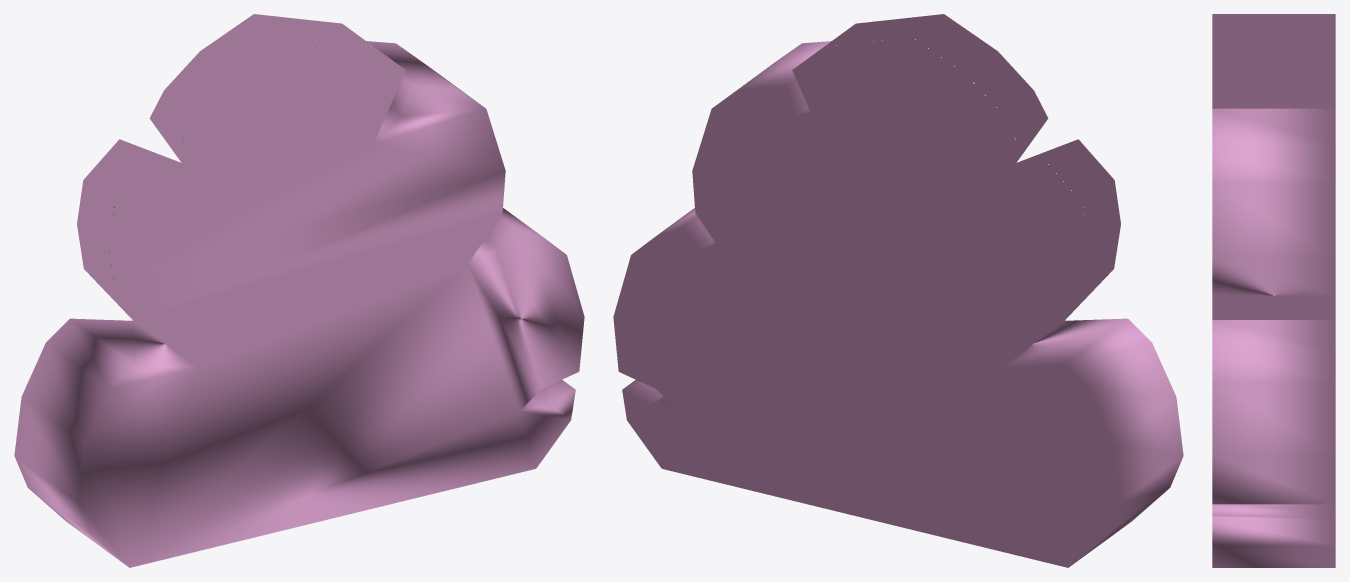
Rendered from BrainPlantAPink.glb.
3 views of the same model, side by side, from view 1: azimuth 30°, elevation 25°; view 2: azimuth 150°, elevation 25°; view 3: azimuth 270°, elevation 25° (orthographic). The views are drawn at different scales.
Parts seen in each view (by area): view 1: BrainPlantAPink; view 2: BrainPlantAPink; view 3: BrainPlantAPink.
Part boxes in pixels (x1=…): BrainPlantAPink: x1=14, y1=14, x2=584, y2=567; BrainPlantAPink: x1=613, y1=14, x2=1183, y2=567; BrainPlantAPink: x1=1212, y1=14, x2=1335, y2=567.
Bounding box in the file's own units: 0.6366 × 0.5542 × 0.1385.
